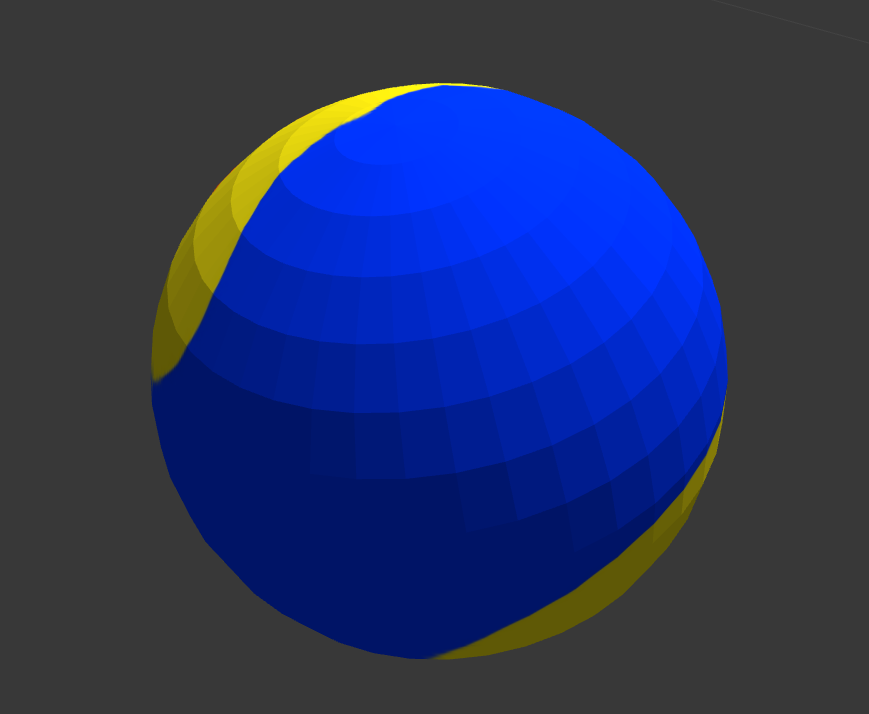toy_story_ball: (147, 78, 731, 662)
